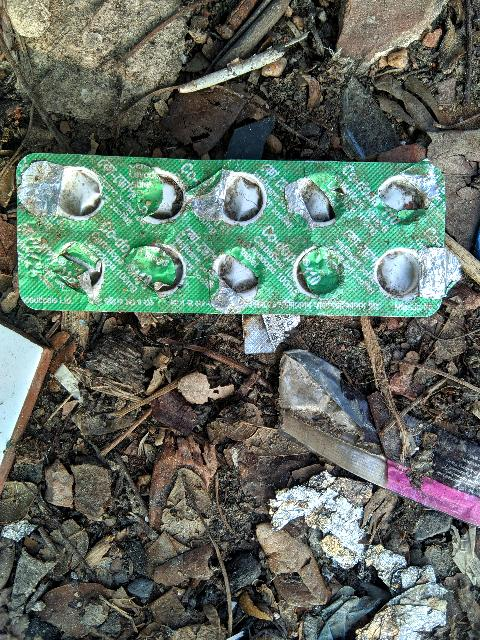medicine: (9, 141, 462, 337)
